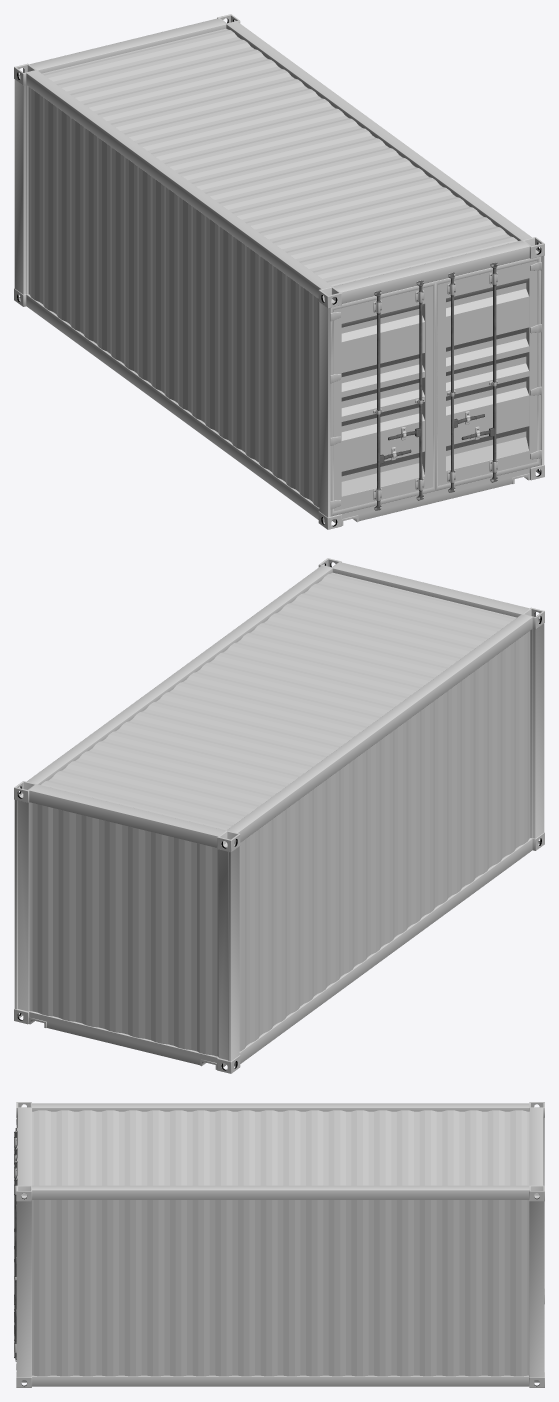
File: uploads_files_3295106_Container_high.fbx
3 views of the same model, one above another, from view 1: azimuth 30°, elevation 25°; view 2: azimuth 150°, elevation 25°; view 3: azimuth 270°, elevation 25° (orthographic). The views are drawn at different scales.
Visible parts, largest first — view 1: Container_high; view 2: Container_high; view 3: Container_high.
Boxes of the visible parts, left/top/right/bottom form: Container_high: left=14, top=14, right=544, bottom=529; Container_high: left=14, top=558, right=544, bottom=1073; Container_high: left=14, top=1102, right=544, bottom=1387.
Bounding box in the file's own units: 235 × 241 × 590.
